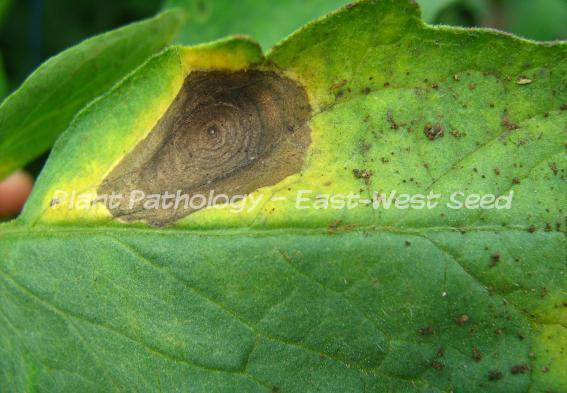Tomato Early blight leaf: (20, 24, 567, 250)
